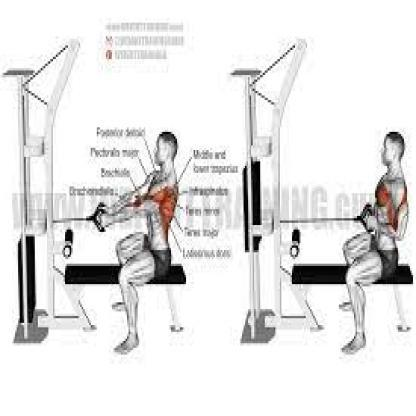Seated Cable Rows: (5, 32, 207, 378), (217, 23, 416, 356)
